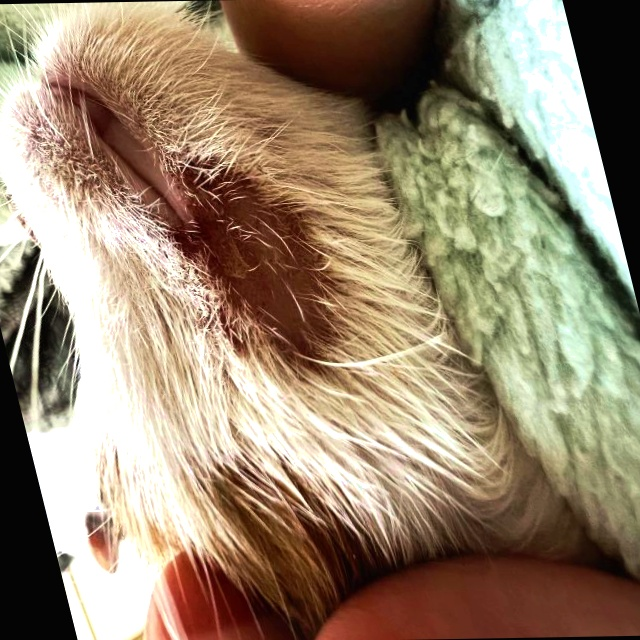ringworm: (173, 168, 344, 381)
